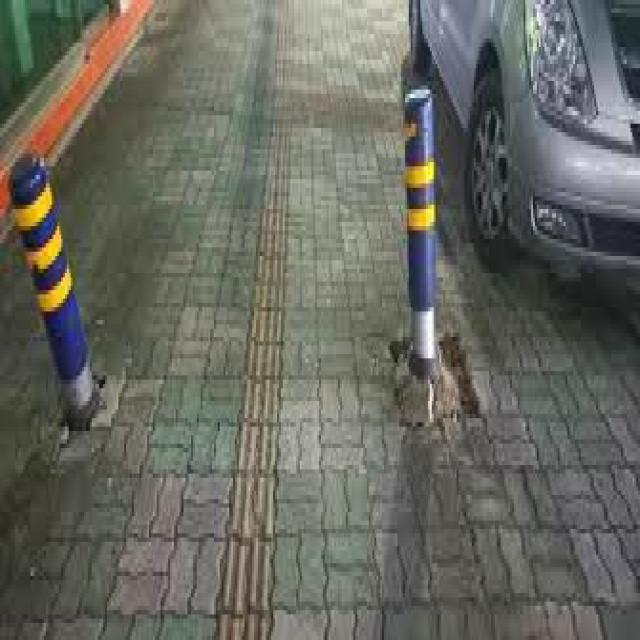bollard: (3, 150, 106, 443), (395, 73, 452, 427)
